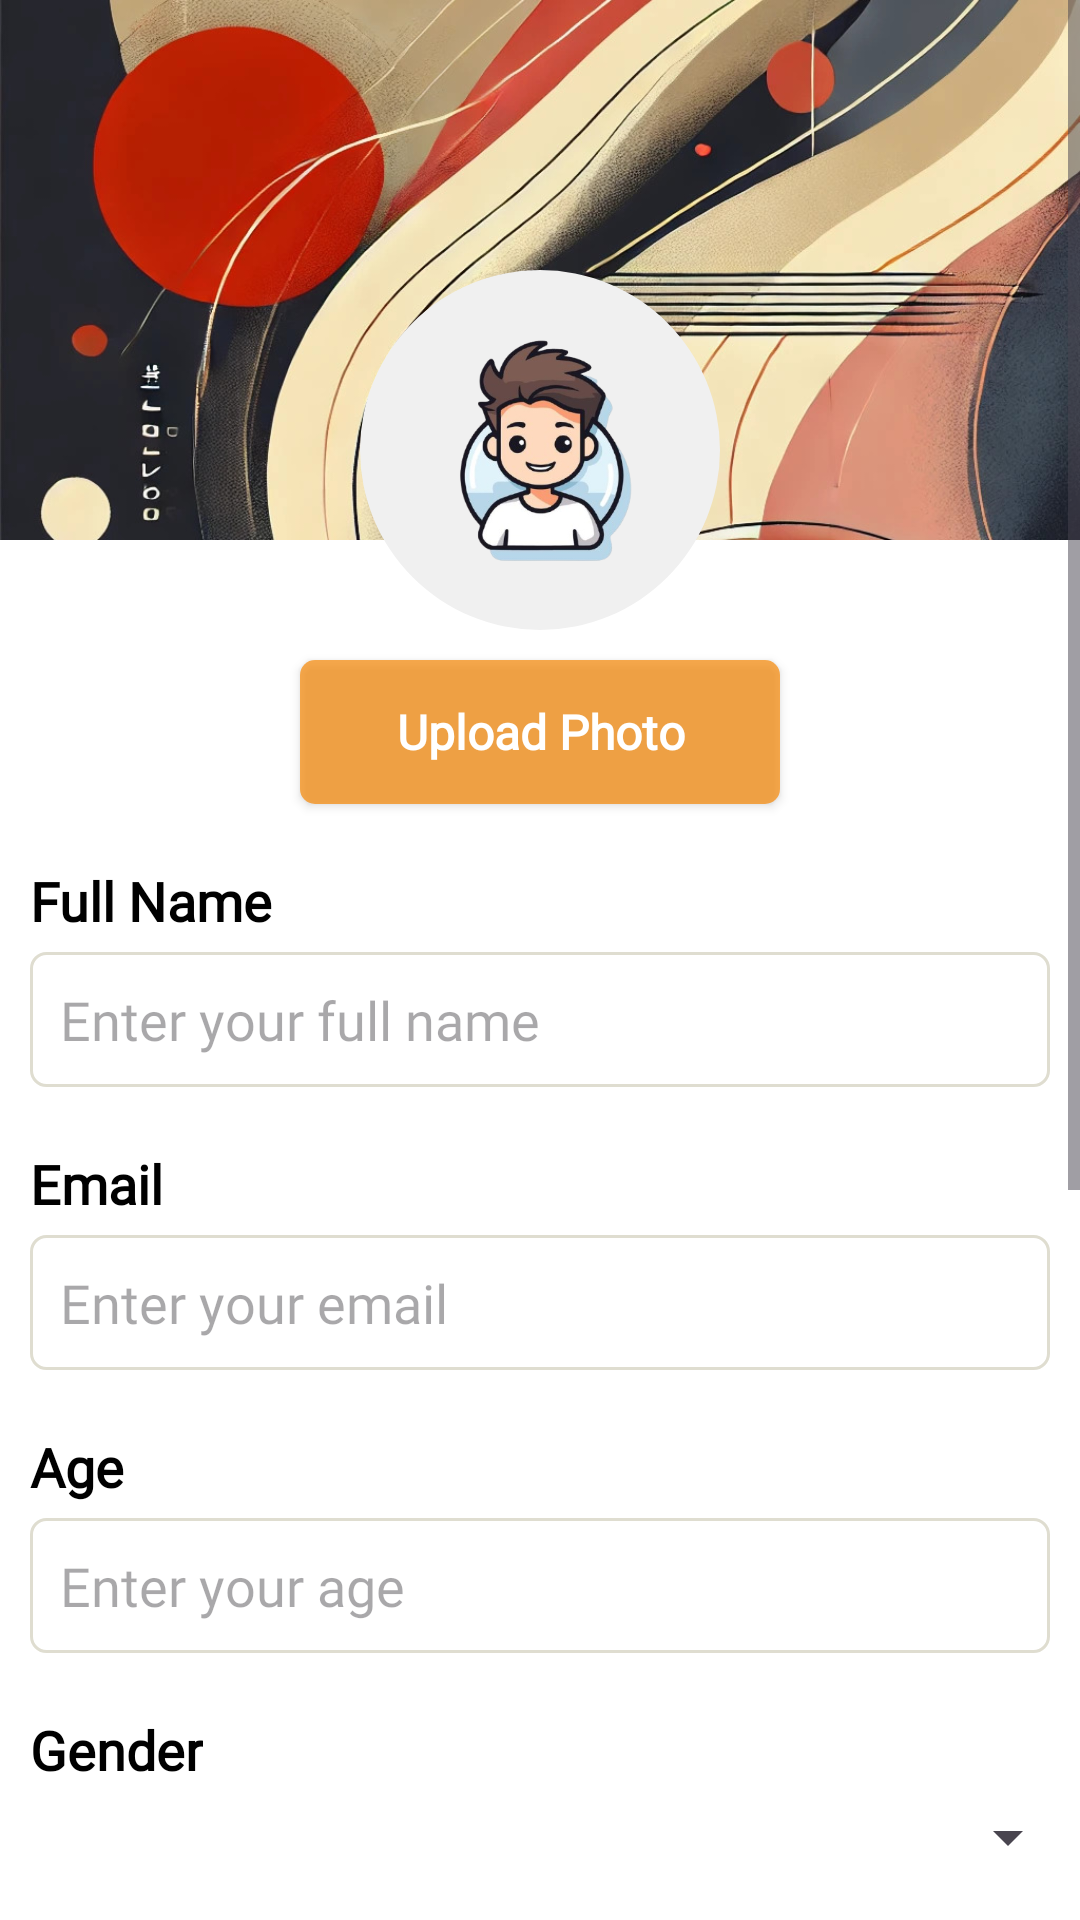

Named icons in this screenshot (1080 x 1920) and their centers, point (x, y):
cartoon: point (540, 450)
